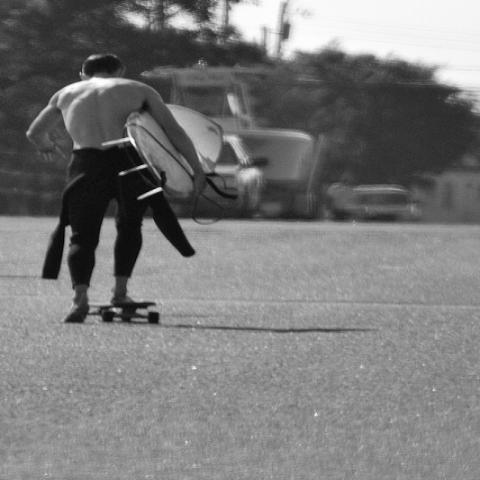car: (205, 134, 269, 218), (350, 185, 424, 221)
